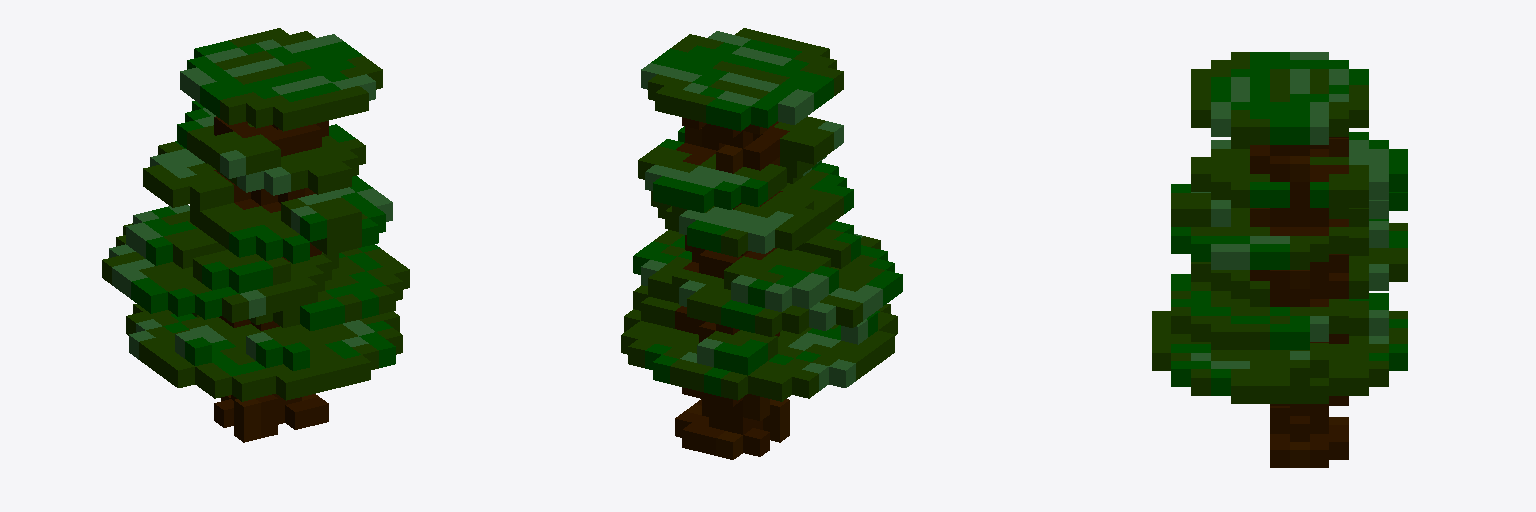
The picture shows the model from 3 angles: view 1: azimuth 30°, elevation 25°; view 2: azimuth 150°, elevation 25°; view 3: azimuth 270°, elevation 25°; orthographic projection.
Visible parts, largest first — view 1: object 1; view 2: object 1; view 3: object 1.
Part boxes in pixels (x1,y1,x2,y2): object 1: (102,28,409,442); object 1: (621,28,902,459); object 1: (1152,52,1407,467).
Size of the model in its own units: 1.4 by 2 by 1.3.
Materials: 1 (1 with a texture image).